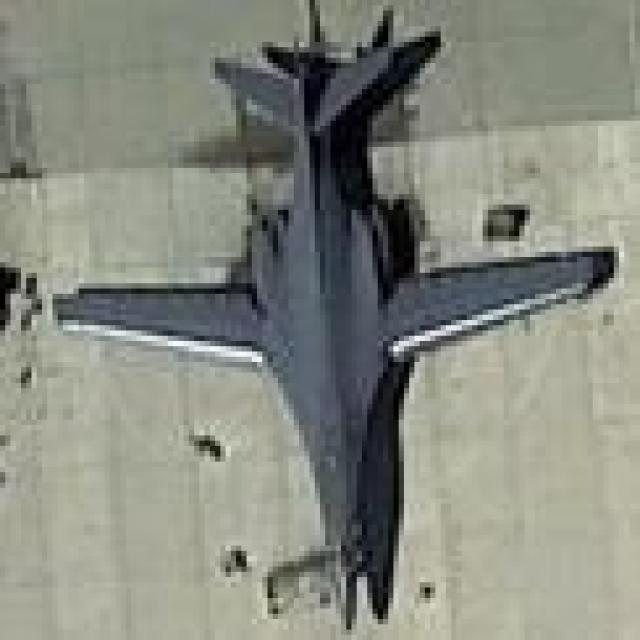B-1_TopDown: (42, 0, 619, 630)
